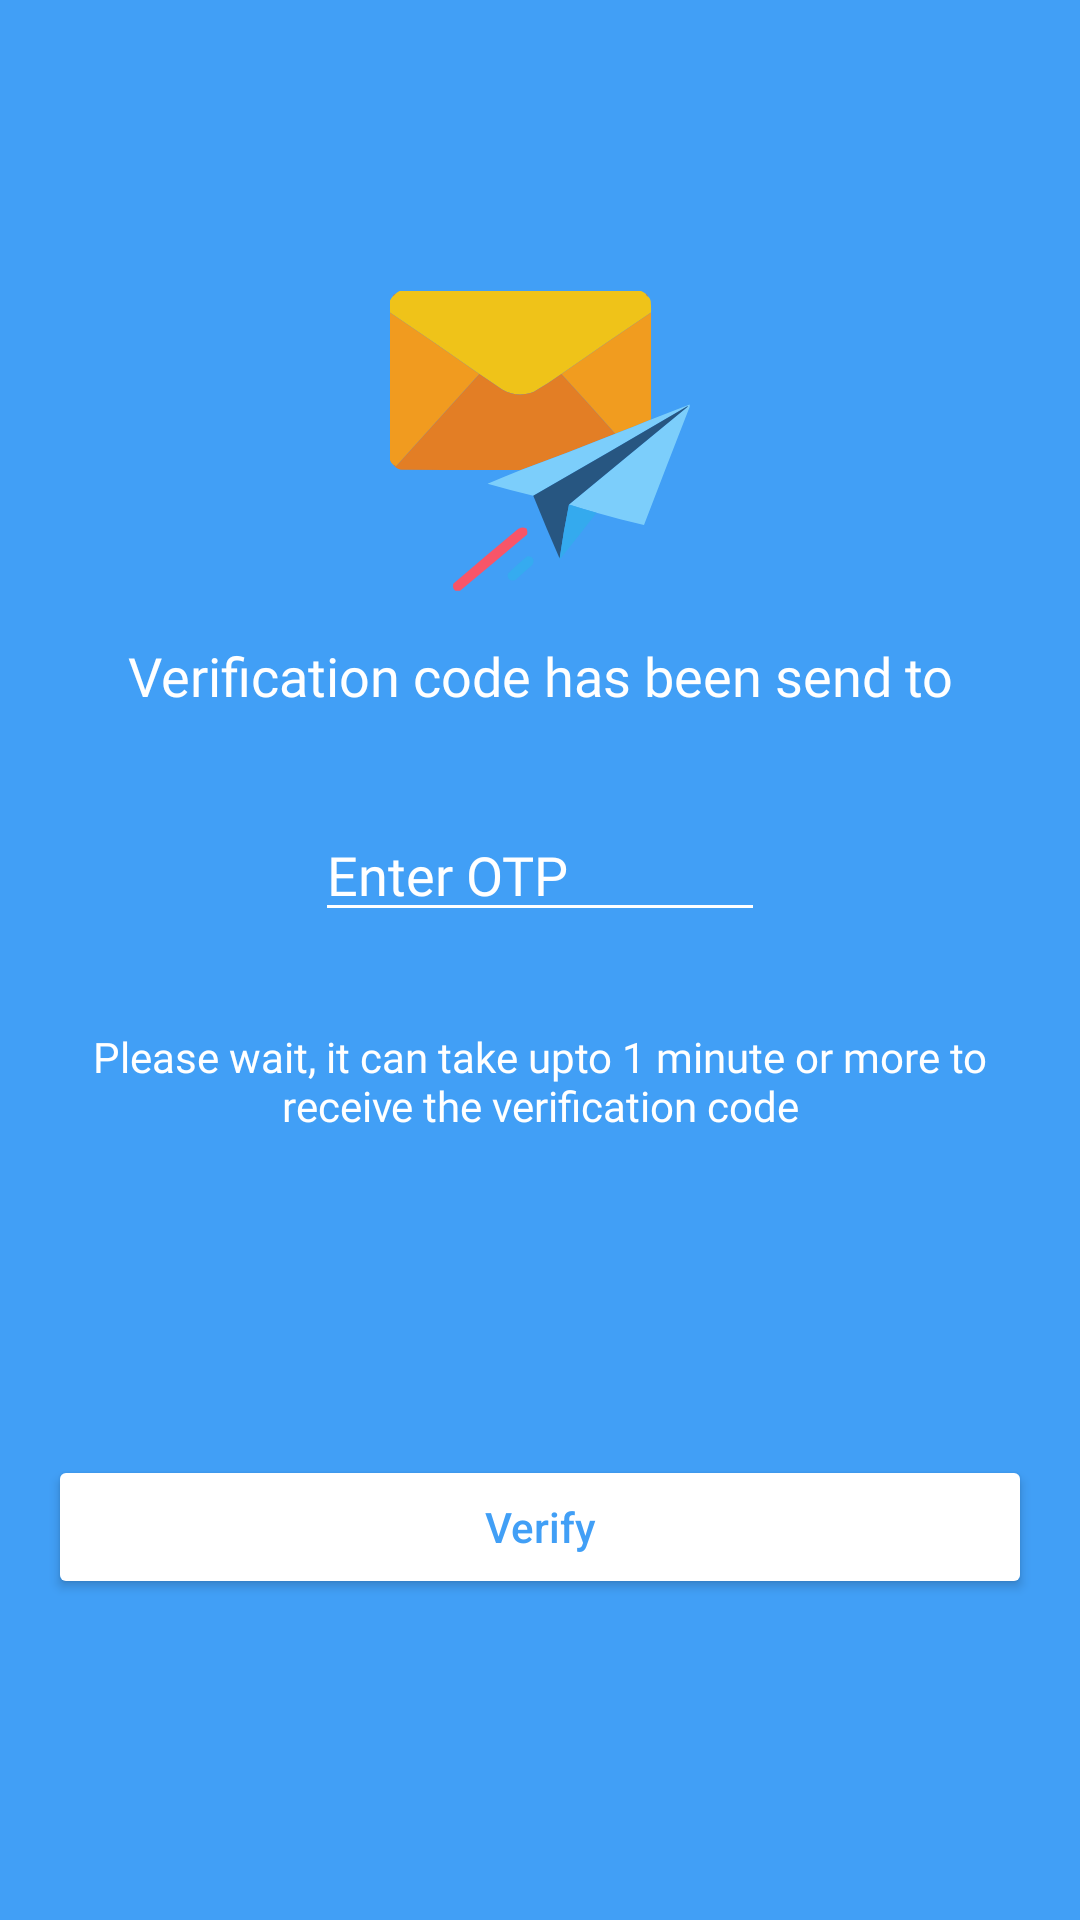

Point at icon controls on the screen. Image size 1080px x 1920px, points as (x,y).
otp verification: (540,441)
